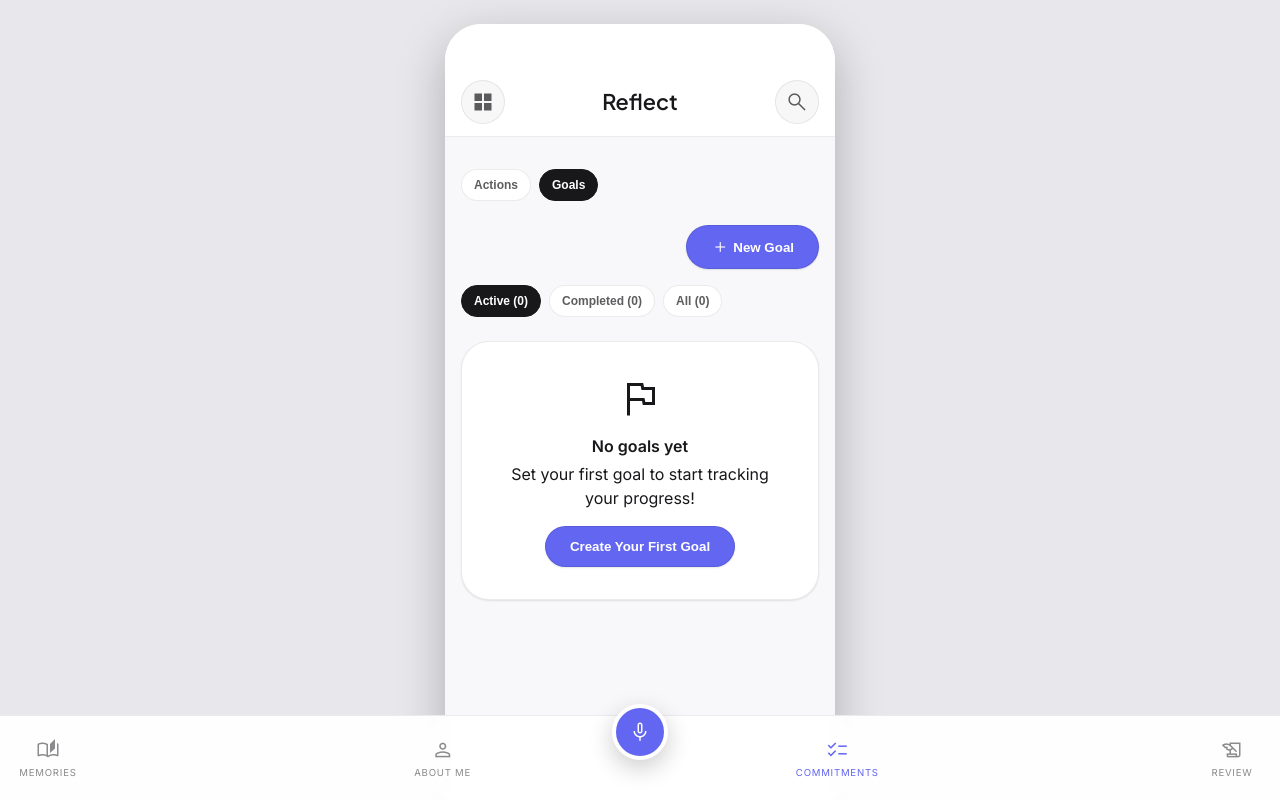
Create Goal Modal › closes modal on cancel
What coordinates should you click on to do the following:
click the button "New Goal"
I would click on:
 (753, 247)
Its box is [686,225,819,269].
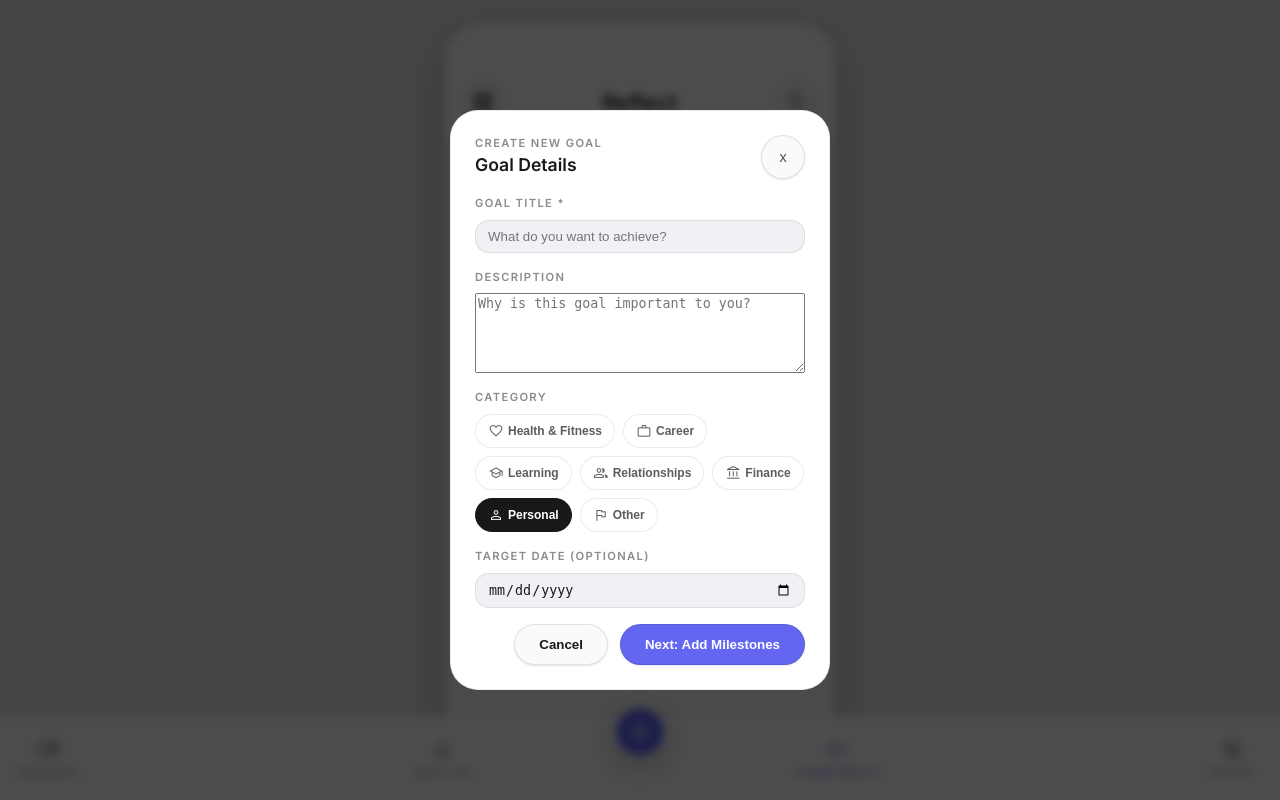
Expected: the text "Create New Goal" is shown, [475,135,602,152]
What coordinates should you click on to do the following:
click the button "Cancel"
I would click on:
 (561, 645)
Its box is [514,624,608,665].
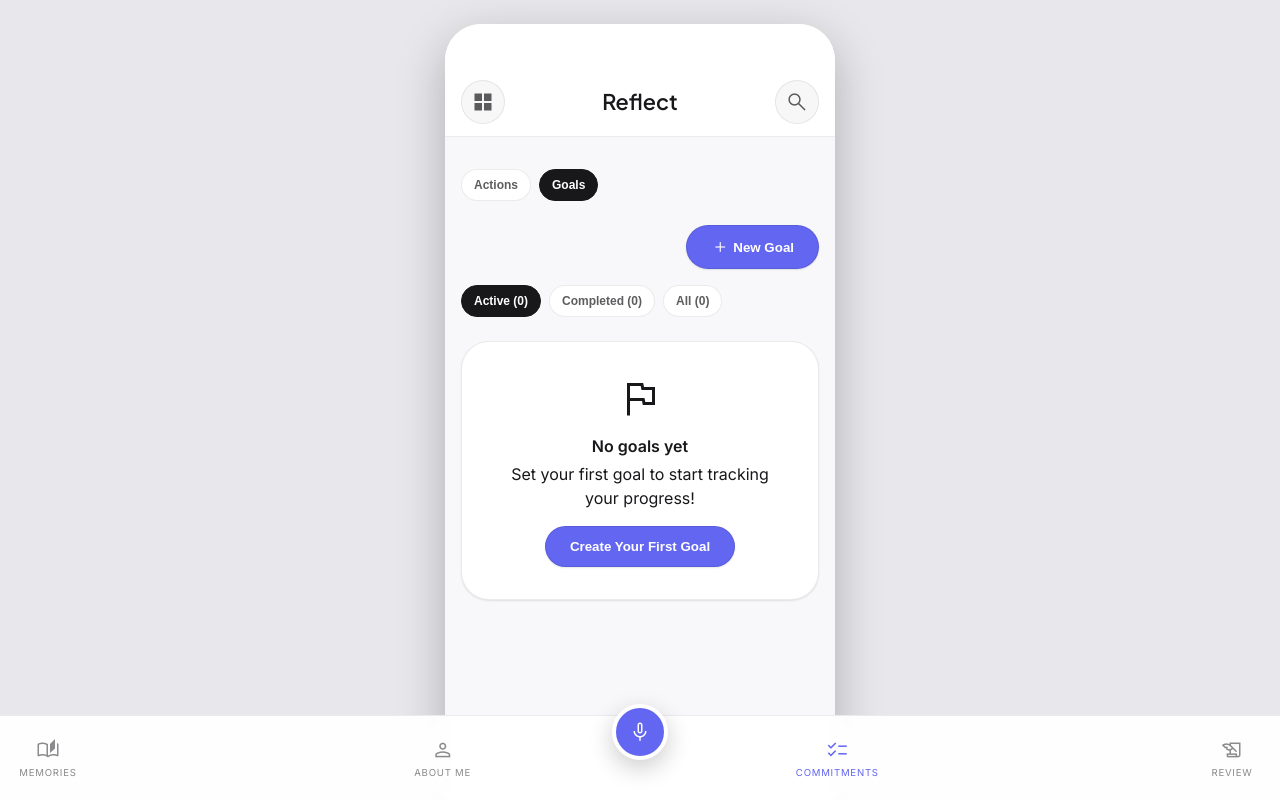
Expected: the text "Create New Goal" is gone
